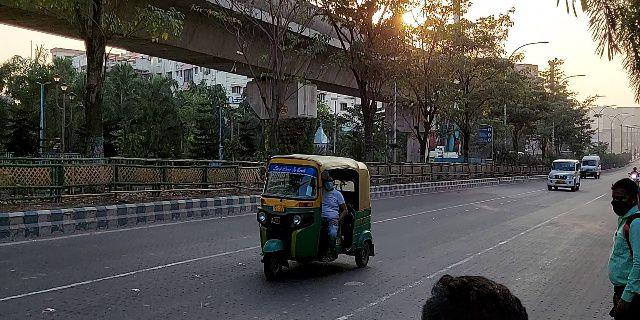Autorickshaw: (254, 149, 379, 282)
Car: (544, 154, 583, 194)
Van: (582, 154, 603, 181)
